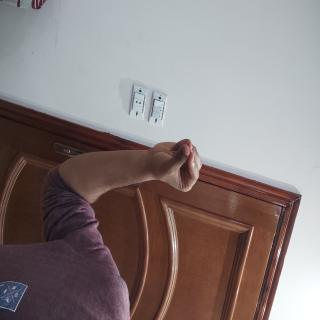QAAF: (96, 152, 148, 234)
